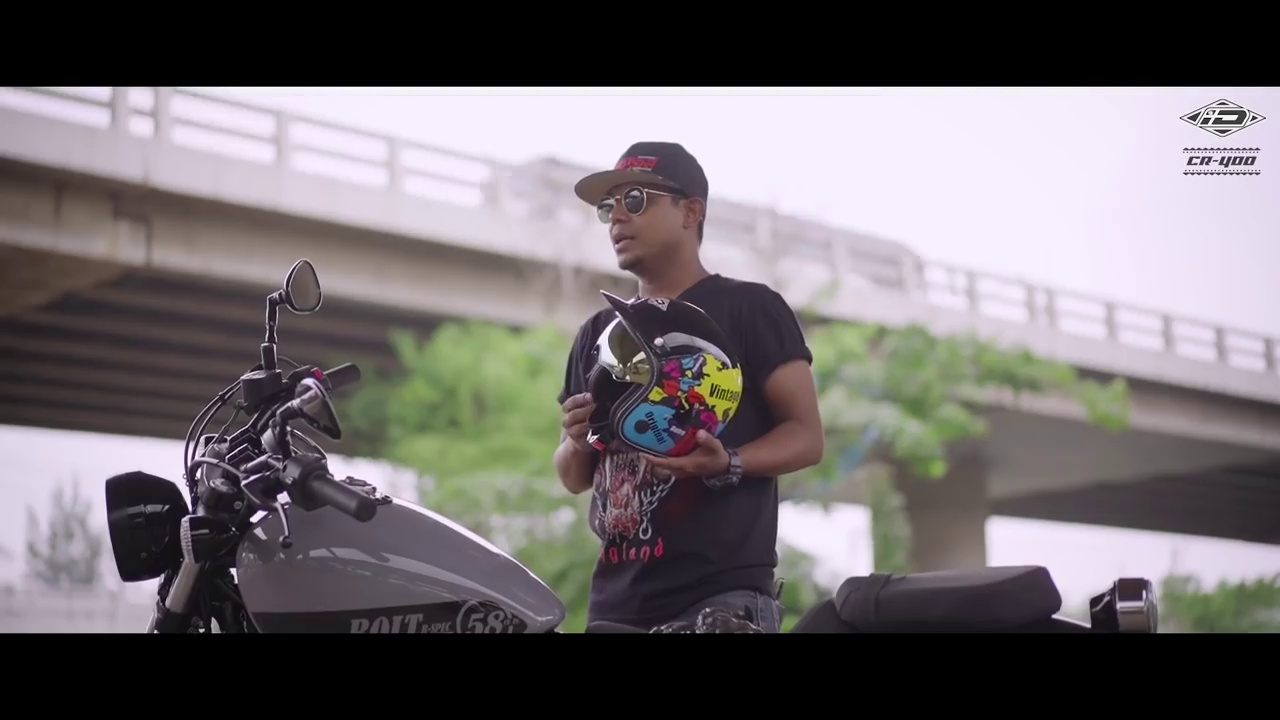helmet: (578, 285, 745, 458)
